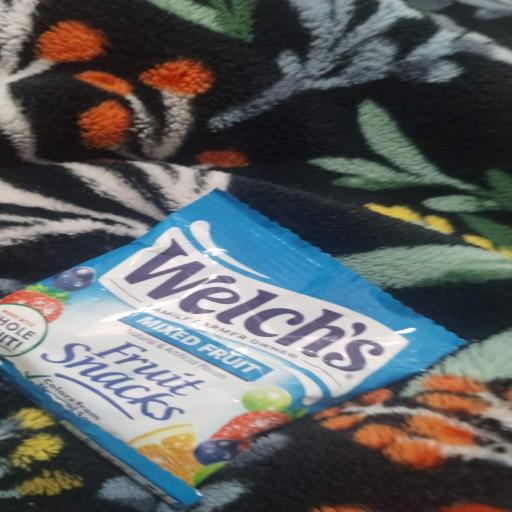chocolate: (0, 192, 463, 504)
